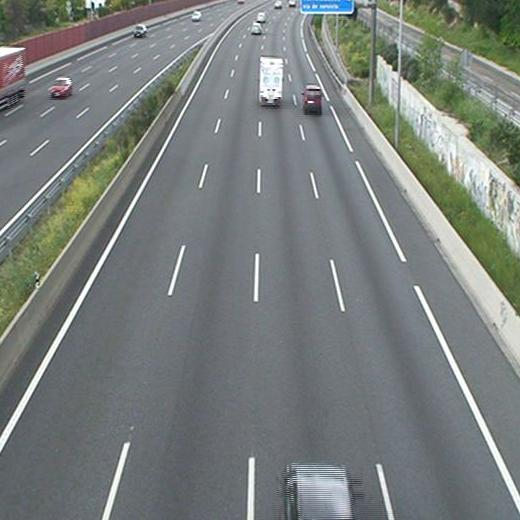small-truck: (259, 56, 284, 107)
van: (303, 85, 323, 115)
